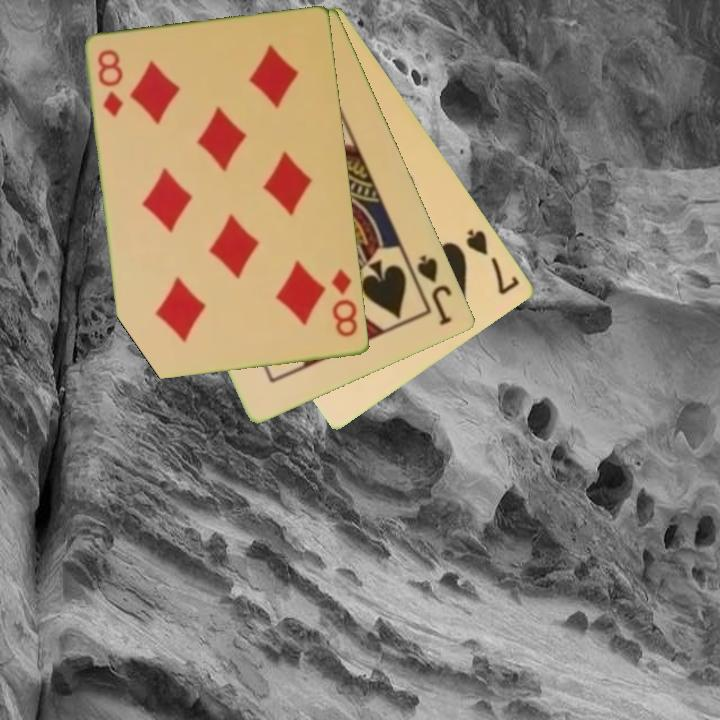7s: (462, 225, 523, 298)
8d: (328, 265, 361, 341), (94, 46, 127, 121)
Js: (413, 251, 456, 329)
